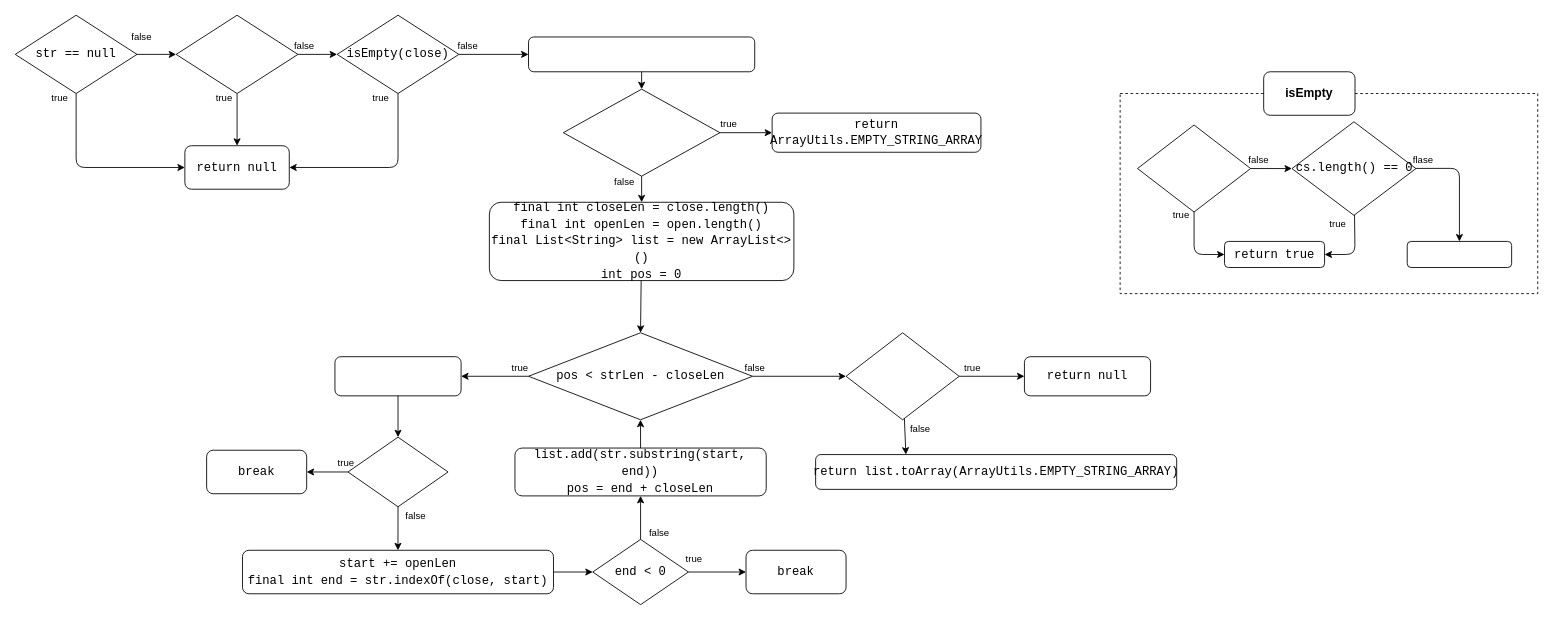
Some shapes in this 1553 by 620 pixel diagram are drawn without their labels. The shapes that lost their labels are listed below. From the top down, each one's centre as x and y in pixels, then its label:
At point (236, 54): "isEmpty(open)".
At point (641, 54): "final int strLen = str.length()".
At point (641, 132): "strLen = str.length()".
At point (1194, 168): "cs == null".
At point (1459, 254): "return false".
At point (397, 376): "int start = str . indexOf ( open , pos )".
At point (902, 376): "list.isEmpty()".
At point (397, 471): "start < 0".
